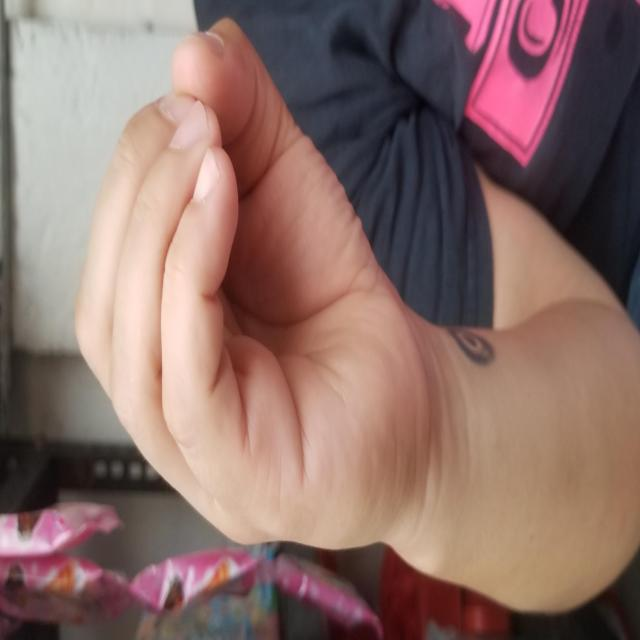O: (90, 74, 621, 421)
